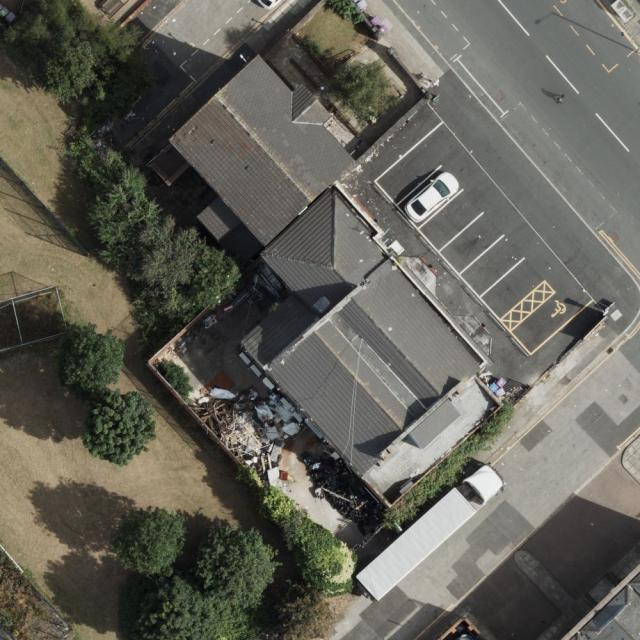roof: (172, 56, 488, 477)
skylight: (316, 296, 330, 311)
